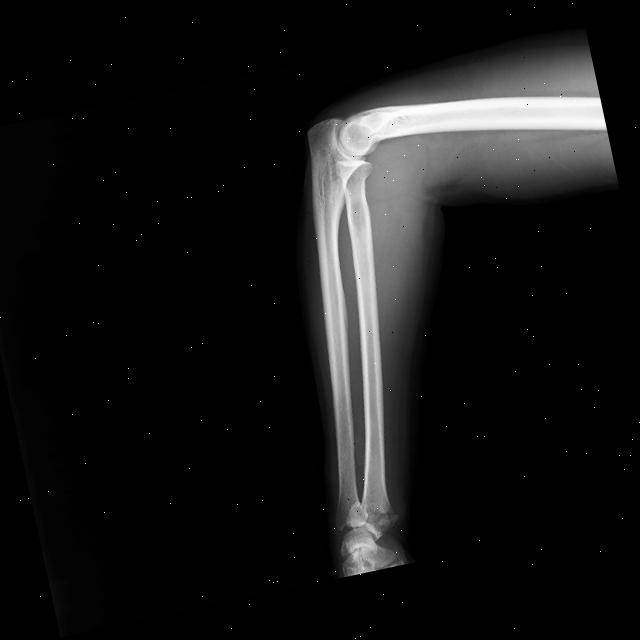Fracture: (365, 505, 402, 537)
